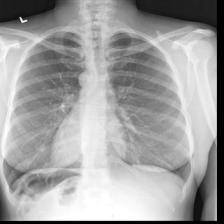normal: (1, 24, 196, 216)
